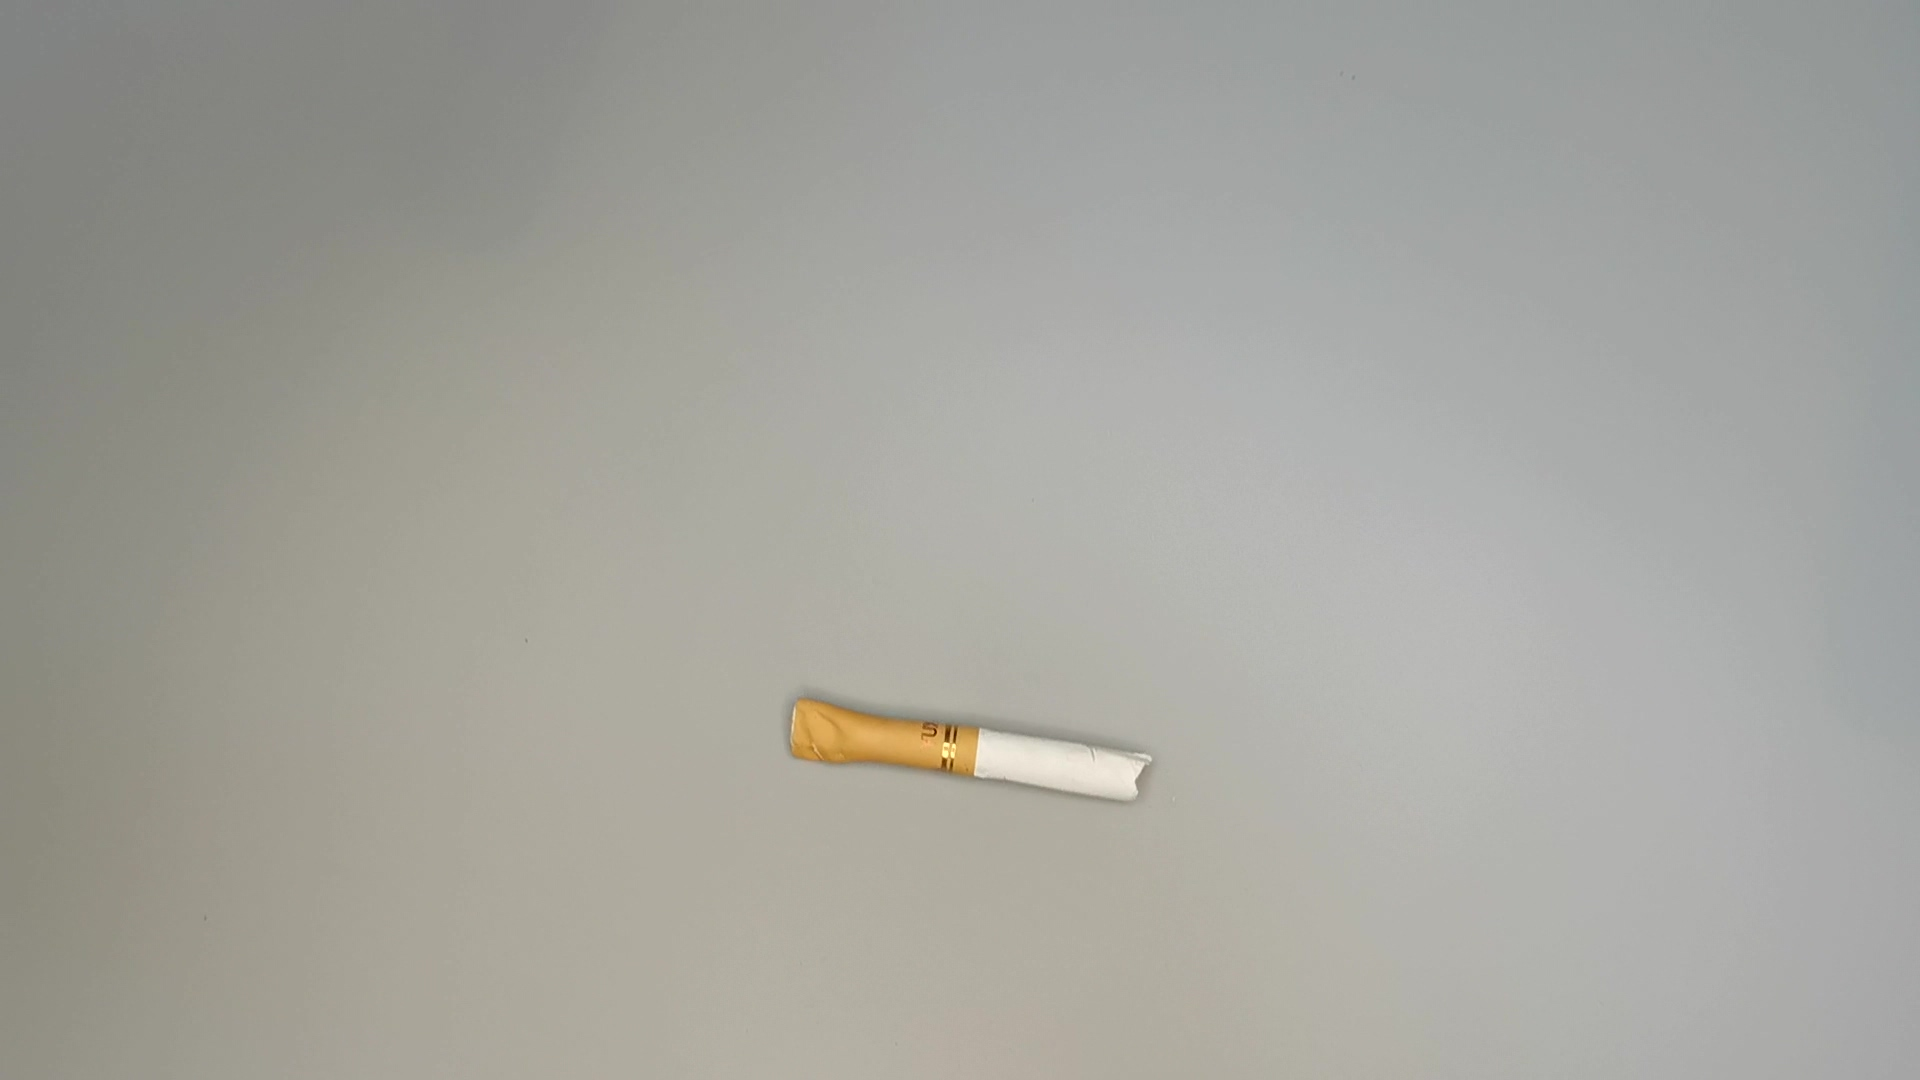cigarette: (777, 686, 1155, 819)
